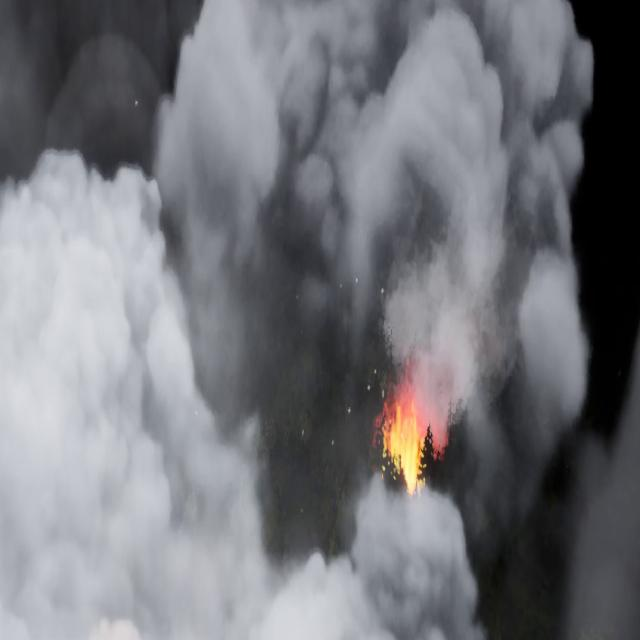fire: (363, 358, 451, 488)
smoke: (0, 4, 637, 639)
